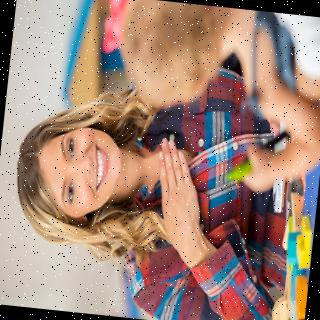Please: (144, 130, 208, 256)
